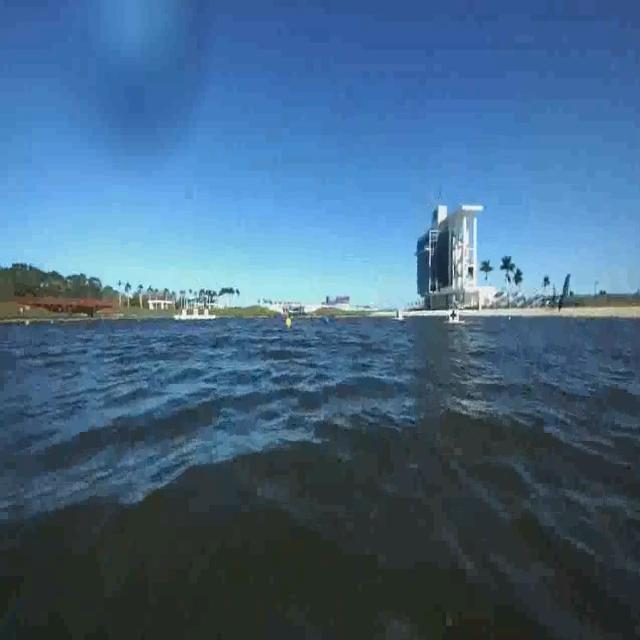blue-buoy: (322, 315, 332, 326)
yellow-buoy: (286, 317, 292, 329)
